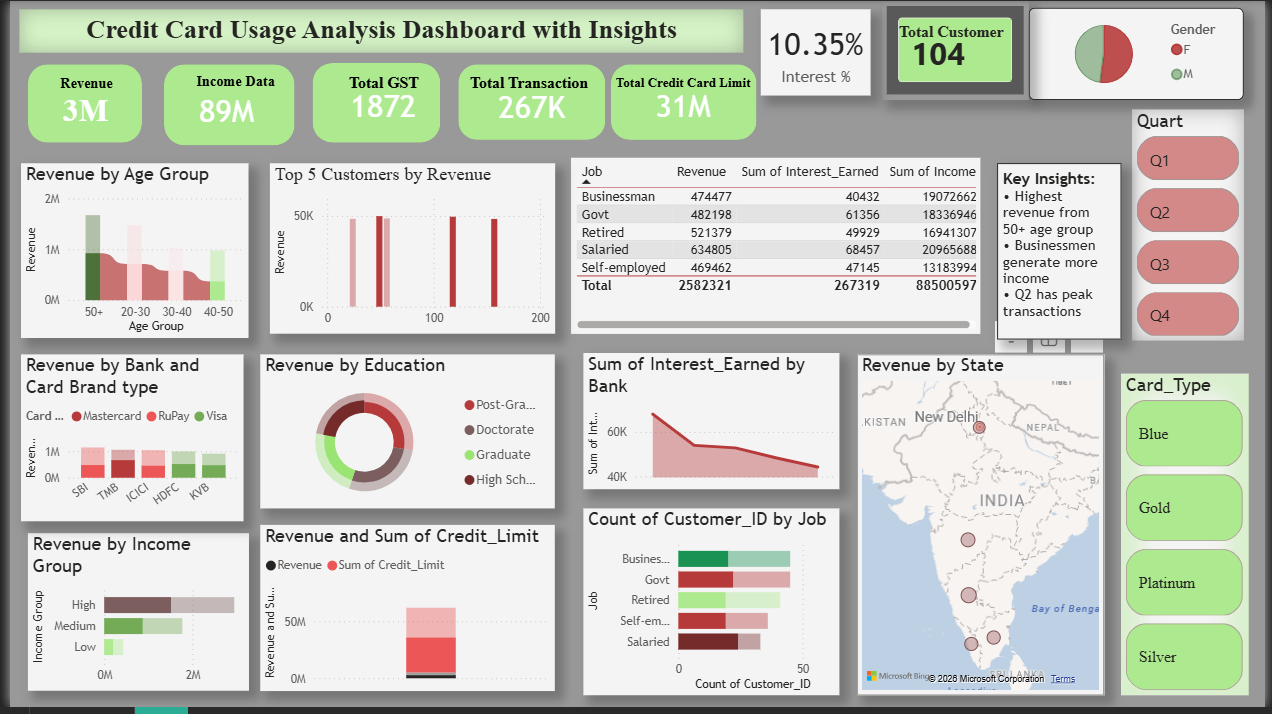

The page's visual inventory and layout, read from the dashboard file:
{"tool":"powerbi","page":{"name":"Page 1","canvas":[1280,720],"ordinal":0},"visuals":[{"type":"shape","box":[18.2,64.5,116.4,79.9],"z":0},{"type":"shape","box":[612.7,64.5,148.6,77.1],"z":1000},{"type":"pieChart","fields":{"Category":["CreditCardData.Gender"],"Y":["CountNonNull(CreditCardData.Customer_ID)"]},"box":[1039.4,6.8,218.8,94],"z":2000},{"type":"shape","box":[308.5,63.1,130.4,81.3],"z":3000},{"type":"shape","box":[457.1,64.5,150,77.1],"z":4000},{"type":"shape","box":[157,64.5,133.2,82.7],"z":5000},{"type":"card","fields":{"Values":["CreditCardData.Revenue"]},"box":[33.6,84.1,86.9,53.3],"z":6000},{"type":"card","fields":{"Values":["CreditCardData.Total Interest"]},"box":[464.1,74.3,136,65.9],"z":7000},{"type":"card","fields":{"Values":["CreditCardData.Income Data"]},"box":[165.4,88.3,110.8,46.3],"z":8000},{"type":"textbox","box":[10.3,8.5,738.5,44.4],"z":9000},{"type":"textbox","box":[46.3,70.1,109.4,44.9],"z":10000},{"type":"textbox","box":[185.1,68.7,105.2,30.8],"z":11000},{"type":"textbox","box":[340.7,68.7,98.1,43.5],"z":12000},{"type":"textbox","box":[464.1,68.7,148.6,39.3],"z":13000},{"type":"ribbonChart","fields":{"Category":["CreditCardData.Age Group"],"Y":["CreditCardData.Revenue"]},"box":[11.7,165,231.7,178.3],"z":14000},{"type":"clusteredBarChart","fields":{"Category":["CreditCardData.Income Group"],"Y":["CreditCardData.Revenue"]},"box":[18.8,541.9,225.7,160.7],"z":15000},{"type":"tableEx","fields":{"Values":["CreditCardData.Job","CreditCardData.Revenue","Sum(CreditCardData.Interest_Earned)","Sum(CreditCardData.Income)"]},"box":[572,159.8,417.8,179.5],"z":16000},{"type":"columnChart","fields":{"Category":["CreditCardData.Bank"],"Y":["CreditCardData.Revenue"],"Series":["CreditCardData.Card Brand type"]},"box":[11.7,360,226.7,170],"z":17000},{"type":"donutChart","fields":{"Category":["CreditCardData.Education"],"Y":["CreditCardData.Revenue"]},"box":[255.2,360.3,300,157],"z":18000},{"type":"map","title":"Revenue by State","fields":{"Category":["CreditCardData.State"],"Size":["CreditCardData.Revenue"]},"box":[863.7,360.3,252.4,347.7],"z":19000},{"type":"columnChart","fields":{"Y":["CreditCardData.Revenue","Sum(CreditCardData.Credit_Limit)"]},"box":[255.2,534.2,300,169.6],"z":20000},{"type":"advancedSlicerVisual","title":"Quart","fields":{"Values":["CreditCardData.Quarter"]},"box":[1143.7,111.1,114.5,235.9],"z":21000},{"type":"advancedSlicerVisual","fields":{"Values":["CreditCardData.Card_Type"]},"box":[1133.5,379.5,129.9,328.2],"z":22000},{"type":"cardVisual","fields":{"Data":["CountNonNull(CreditCardData.Customer_ID)"]},"box":[888.9,0,150,100.9],"z":23000},{"type":"textbox","box":[901,17.1,124.8,44.4],"z":24000},{"type":"card","fields":{"Values":["Sum(CreditCardData.GST)"]},"box":[337.9,75.7,85.5,61.7],"z":25000},{"type":"clusteredBarChart","fields":{"Y":["CountNonNull(CreditCardData.Customer_ID)"],"Category":["CreditCardData.Job"]},"box":[584.7,517.4,260.8,190.7],"z":26000},{"type":"areaChart","fields":{"Category":["CreditCardData.Bank"],"Y":["Sum(CreditCardData.Interest_Earned)"]},"box":[584.7,358.9,260.8,138.8],"z":27000},{"type":"card","fields":{"Values":["Sum(CreditCardData.Credit_Limit)"]},"box":[633.7,74.3,105.2,64.5],"z":28000},{"type":"textbox","box":[612.7,70.1,158.4,43.5],"z":29000},{"type":"columnChart","title":"Top 5 Customers by Revenue","fields":{"Category":["CreditCardData.Customer_ID"],"Y":["CreditCardData.Revenue"]},"box":[264.5,165.3,290.9,174.1],"z":30000},{"type":"textbox","box":[1006.7,165.4,126.2,179.5],"z":31000},{"type":"card","fields":{"Values":["CreditCardData.Interest %"]},"box":[765.5,8.4,112.2,88.3],"z":32000}]}

Visuals, with their boxes in screenshot pixels (x1, y1, x2, y2), scaled from the page's 1280x720 canvas onto the 1272x714 screenshot:
shape: select_region(18, 64, 134, 143)
shape: select_region(609, 64, 757, 140)
pieChart - CreditCardData.Gender x CountNonNull(CreditCardData.Customer_ID): select_region(1033, 7, 1250, 100)
shape: select_region(307, 63, 436, 143)
shape: select_region(454, 64, 603, 140)
shape: select_region(156, 64, 288, 146)
card - CreditCardData.Revenue: select_region(33, 83, 120, 136)
card - CreditCardData.Total Interest: select_region(461, 74, 596, 139)
card - CreditCardData.Income Data: select_region(164, 88, 274, 133)
textbox: select_region(10, 8, 744, 52)
textbox: select_region(46, 70, 155, 114)
textbox: select_region(184, 68, 288, 99)
textbox: select_region(339, 68, 436, 111)
textbox: select_region(461, 68, 609, 107)
ribbonChart - CreditCardData.Age Group x CreditCardData.Revenue: select_region(12, 164, 242, 340)
clusteredBarChart - CreditCardData.Income Group x CreditCardData.Revenue: select_region(19, 537, 243, 697)
tableEx - CreditCardData.Job x CreditCardData.Revenue: select_region(568, 158, 984, 336)
columnChart - CreditCardData.Bank x CreditCardData.Revenue: select_region(12, 357, 237, 526)
donutChart - CreditCardData.Education x CreditCardData.Revenue: select_region(254, 357, 552, 513)
"Revenue by State" map: select_region(858, 357, 1109, 702)
columnChart - CreditCardData.Revenue x Sum(CreditCardData.Credit_Limit): select_region(254, 530, 552, 698)
"Quart" advancedSlicerVisual: select_region(1137, 110, 1250, 344)
advancedSlicerVisual - CreditCardData.Card_Type: select_region(1126, 376, 1256, 702)
cardVisual - CountNonNull(CreditCardData.Customer_ID): select_region(883, 0, 1032, 100)
textbox: select_region(895, 17, 1019, 61)
card - Sum(CreditCardData.GST): select_region(336, 75, 421, 136)
clusteredBarChart - CountNonNull(CreditCardData.Customer_ID) x CreditCardData.Job: select_region(581, 513, 840, 702)
areaChart - CreditCardData.Bank x Sum(CreditCardData.Interest_Earned): select_region(581, 356, 840, 494)
card - Sum(CreditCardData.Credit_Limit): select_region(630, 74, 734, 138)
textbox: select_region(609, 70, 766, 113)
"Top 5 Customers by Revenue" columnChart: select_region(263, 164, 552, 337)
textbox: select_region(1000, 164, 1126, 342)
card - CreditCardData.Interest %: select_region(761, 8, 872, 96)
